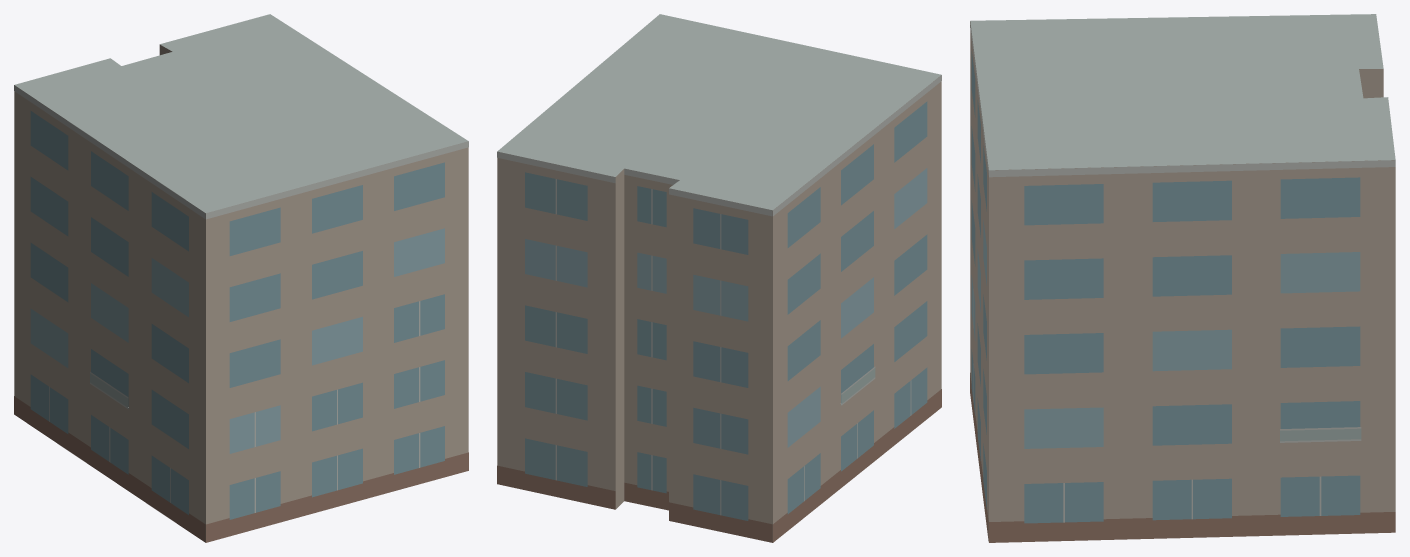
File: survey-upis-32942231.glb
The picture shows the model from 3 angles, left to right: view 1: azimuth 30°, elevation 25°; view 2: azimuth 150°, elevation 25°; view 3: azimuth 270°, elevation 25°; orthographic projection. The views are drawn at different scales.
Visible parts, largest first — view 1: survey-upis-32942231.tmp; view 2: survey-upis-32942231.tmp; view 3: survey-upis-32942231.tmp.
Part boxes in pixels (x1,y1,x2,y2): survey-upis-32942231.tmp: (14,14,468,542); survey-upis-32942231.tmp: (497,14,941,542); survey-upis-32942231.tmp: (970,14,1395,542).
Bounding box in the file's own units: 11.75 × 13.05 × 13.51.
